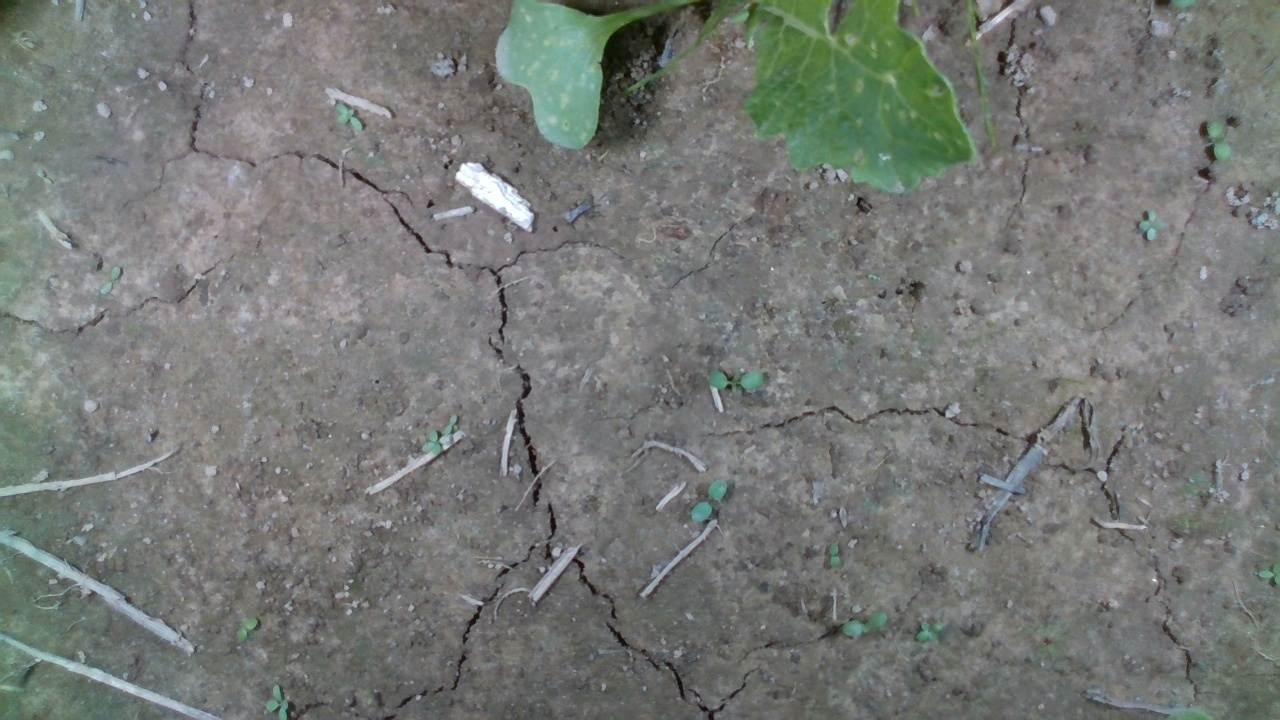weed: (688, 480, 727, 522)
